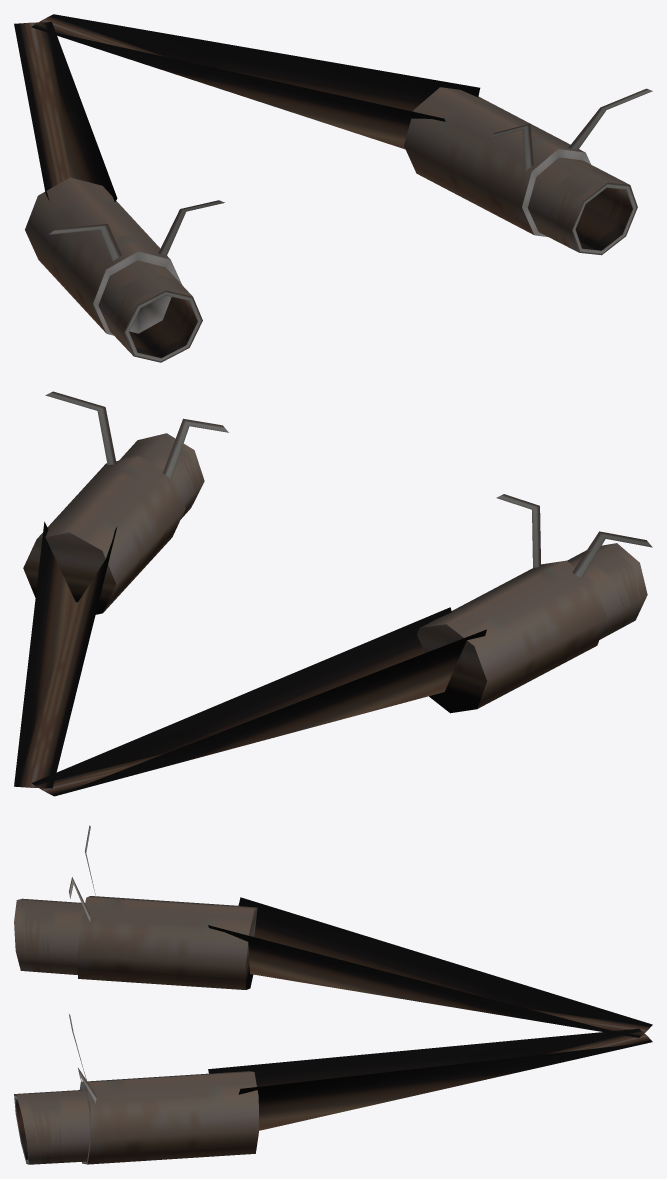
The model's file is exh_a_u.glb.
The picture shows the model from 3 angles, top to bottom: view 1: azimuth 30°, elevation 25°; view 2: azimuth 150°, elevation 25°; view 3: azimuth 270°, elevation 25°; orthographic projection. The views are drawn at different scales.
Visible parts, largest first — view 1: exh_a_u; view 2: exh_a_u; view 3: exh_a_u.
Boxes of the visible parts, x1,y1,x2,y2 form: exh_a_u: (14, 14, 652, 362); exh_a_u: (14, 391, 652, 796); exh_a_u: (14, 825, 652, 1164).
Bounding box in the file's own units: 1.27 × 0.2618 × 1.29.
Materials: 1 (1 with a texture image).
